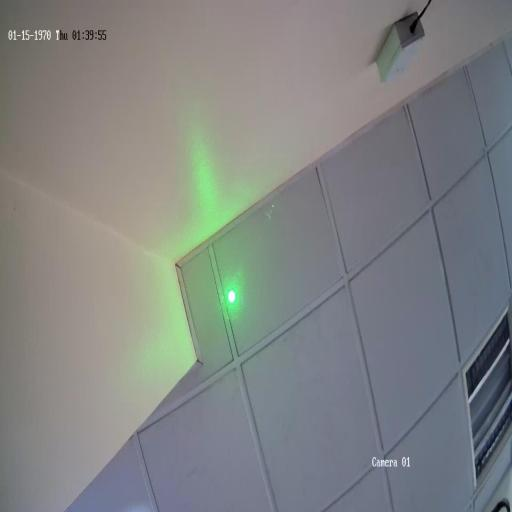laser: (224, 280, 239, 312)
